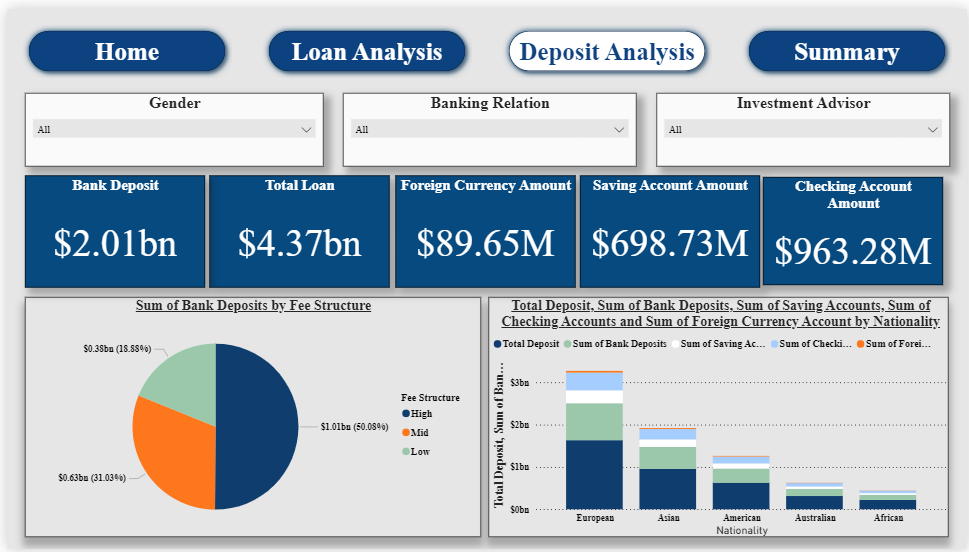

The dashboard page shown, as its layout file describes it:
{"tool":"powerbi","page":{"name":"Deposit Analysis","canvas":[1280,720],"ordinal":2},"visuals":[{"type":"shape","box":[0,19,320,72],"z":0},{"type":"shape","box":[960,19,320,72],"z":1000},{"type":"shape","box":[640,19,320,72],"z":2000},{"type":"shape","box":[320,19,320,72],"z":3000},{"type":"slicer","title":"Banking Relation","fields":{"Values":["Clients - Banking.Banking Relationship"]},"box":[447.9,112,391.2,97.8],"z":4000},{"type":"slicer","title":"Gender","fields":{"Values":["Clients - Banking.Gender.Gender"]},"box":[24.1,112,398.3,97.8],"z":5000},{"type":"pieChart","fields":{"Y":["Sum(Clients - Banking.Bank Deposits)"],"Category":["Clients - Banking.Fee Structure"]},"box":[24,384,608,320],"z":6000},{"type":"columnChart","fields":{"Category":["Clients - Banking.Nationality"],"Y":["Banking Relationship.Total Deposit","Sum(Clients - Banking.Bank Deposits)","Sum(Clients - Banking.Saving Accounts)","Sum(Clients - Banking.Checking Accounts)","Sum(Clients - Banking.Foreign Currency Account)"]},"box":[641,384,613,320],"z":7000},{"type":"slicer","title":"Investment Advisor","fields":{"Values":["Clients - Banking.Investment Advisor"]},"box":[866,112,391.2,97.8],"z":8000},{"type":"card","title":"Total Loan","fields":{"Values":["Banking Relationship.Total Loan"]},"box":[270.8,221,240,149],"z":9000},{"type":"card","title":"Foreign Currency Amount","fields":{"Values":["Sum(Clients - Banking.Foreign Currency Account)"]},"box":[517.5,221.1,240,149],"z":11000},{"type":"card","title":"Saving Account Amount","fields":{"Values":["Banking Relationship.Saving Account Amount"]},"box":[764.3,221.1,240,149],"z":13000},{"type":"card","title":"Checking Account Amount","fields":{"Values":["Sum(Clients - Banking.Checking Accounts)"]},"box":[1008,224,240,144],"z":15000},{"type":"card","title":"Bank Deposit","fields":{"Values":["Sum(Clients - Banking.Bank Deposits)"]},"box":[24.1,221.1,240,149],"z":17000}]}

Visuals, with their boxes in screenshot pixels (x1, y1, x2, y2), scaled from the page's 1280x720 canvas onto the 969x552 screenshot:
shape: bbox=(0, 15, 242, 70)
shape: bbox=(727, 15, 968, 70)
shape: bbox=(484, 15, 727, 70)
shape: bbox=(242, 15, 484, 70)
"Banking Relation" slicer: bbox=(339, 86, 635, 161)
"Gender" slicer: bbox=(18, 86, 320, 161)
pieChart - Sum(Clients - Banking.Bank Deposits) x Clients - Banking.Fee Structure: bbox=(18, 294, 478, 540)
columnChart - Clients - Banking.Nationality x Banking Relationship.Total Deposit: bbox=(485, 294, 949, 540)
"Investment Advisor" slicer: bbox=(656, 86, 952, 161)
"Total Loan" card: bbox=(205, 169, 387, 284)
"Foreign Currency Amount" card: bbox=(392, 170, 573, 284)
"Saving Account Amount" card: bbox=(579, 170, 760, 284)
"Checking Account Amount" card: bbox=(763, 172, 945, 282)
"Bank Deposit" card: bbox=(18, 170, 200, 284)
